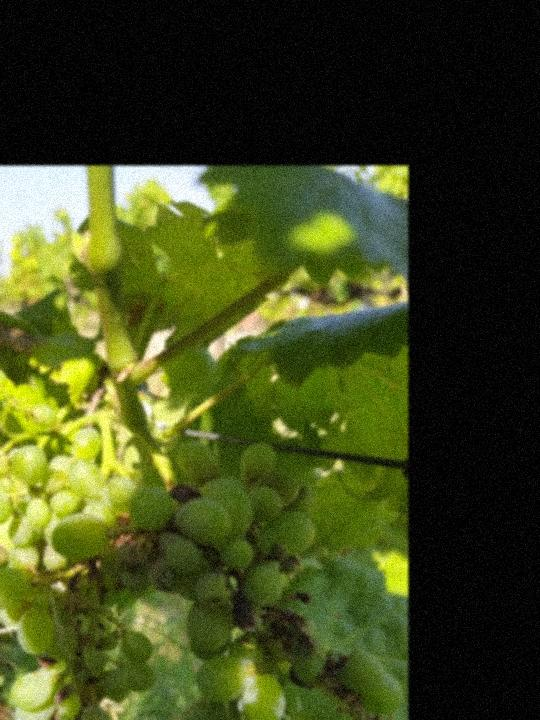grape: (0, 415, 404, 720)
